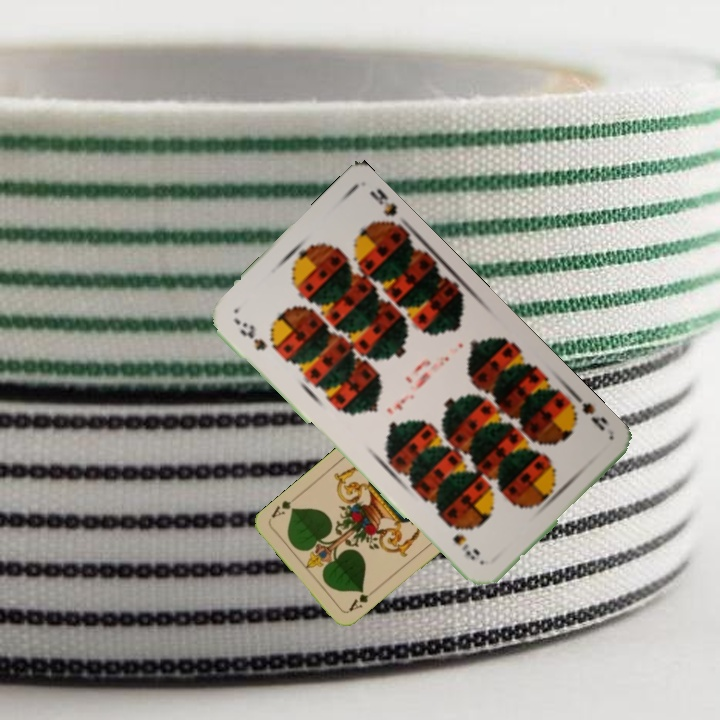GA: (345, 585, 379, 614)
S9: (560, 388, 611, 434), (235, 318, 269, 353)
